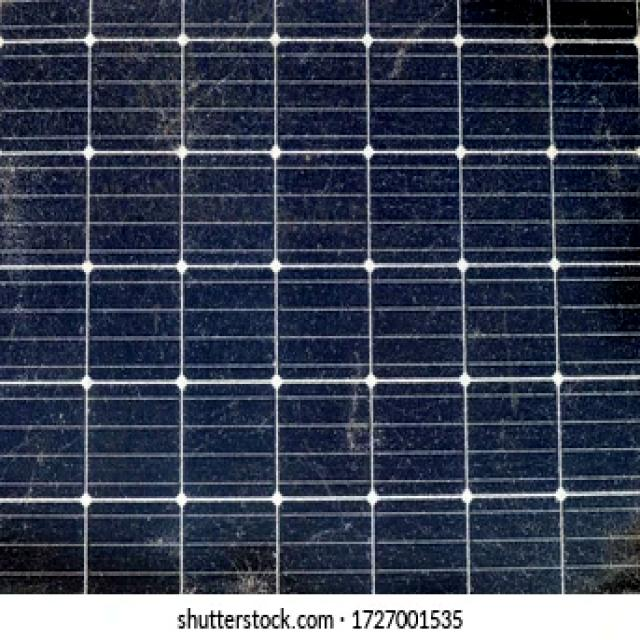dust: (181, 180, 461, 487), (2, 168, 178, 584), (472, 280, 634, 582), (463, 46, 632, 247), (191, 40, 451, 141), (207, 502, 462, 594), (0, 0, 86, 153), (96, 44, 184, 150)
